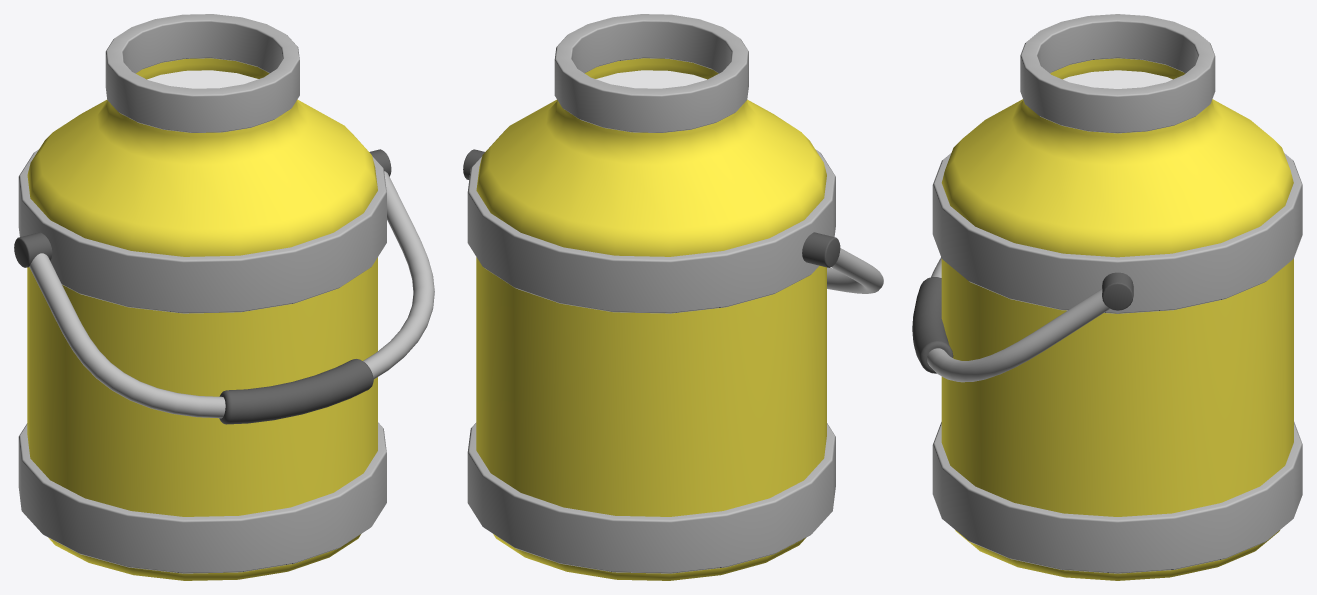
The model's file is Farm_19_Milk_Conteiner_2.glb.
The picture shows the model from 3 angles, left to right: view 1: azimuth 30°, elevation 25°; view 2: azimuth 150°, elevation 25°; view 3: azimuth 270°, elevation 25°; orthographic projection.
Visible parts, largest first — view 1: Farm_19_Milk_Conteiner_2; view 2: Farm_19_Milk_Conteiner_2; view 3: Farm_19_Milk_Conteiner_2.
Boxes of the visible parts, bbox=[...] form: Farm_19_Milk_Conteiner_2: bbox=[14, 14, 434, 580]; Farm_19_Milk_Conteiner_2: bbox=[463, 14, 883, 580]; Farm_19_Milk_Conteiner_2: bbox=[912, 14, 1302, 580].
Bounding box in the file's own units: 0.7199 × 0.8719 × 0.6711.
1 material, 1 textured.
